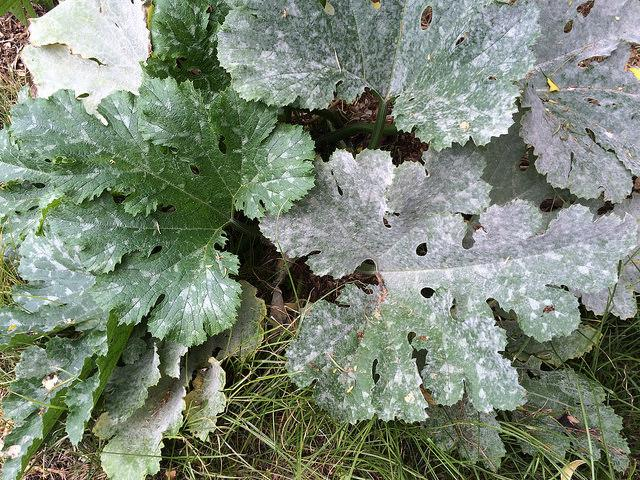Squash Powdery mildew leaf: (256, 147, 639, 424), (1, 70, 333, 343), (204, 1, 539, 148)
